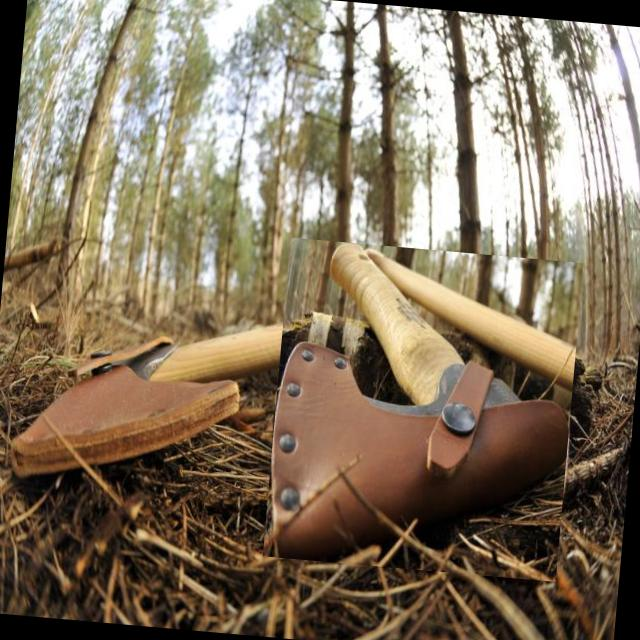Axe: (10, 263, 504, 476), (271, 244, 568, 559)
